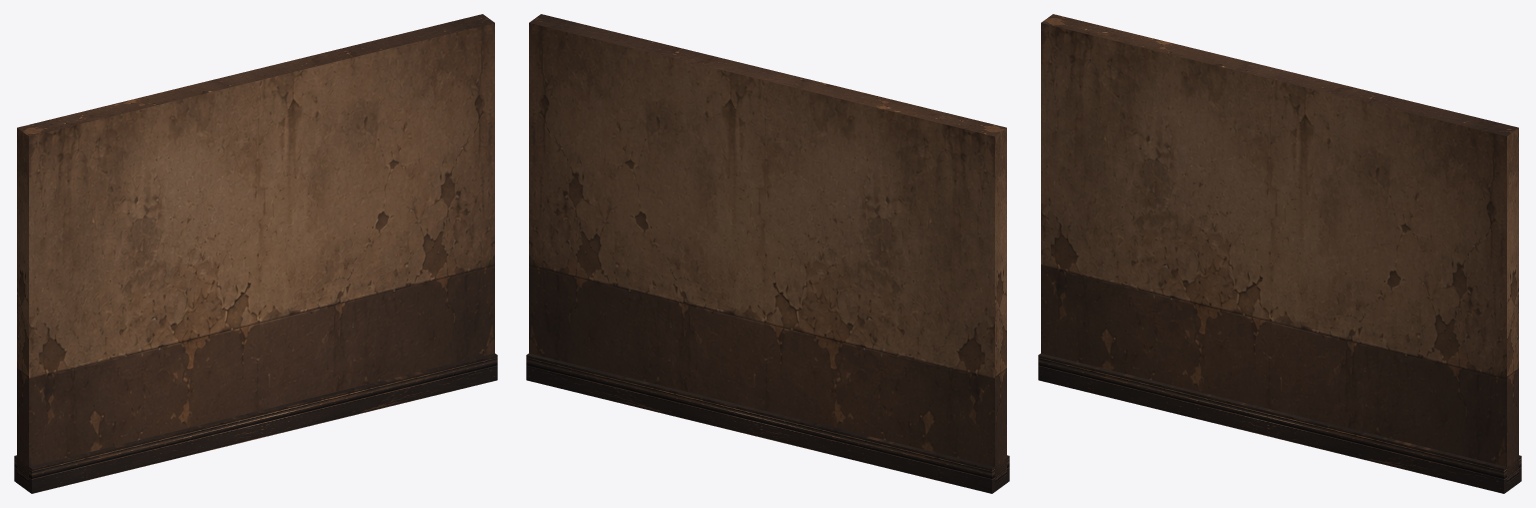
The model's file is Pared.fbx.
3 renders of one model, left to right at view 1: azimuth 30°, elevation 25°; view 2: azimuth 150°, elevation 25°; view 3: azimuth 330°, elevation 25°, orthographic.
Parts seen in each view (by area): view 1: pared1; view 2: pared1; view 3: pared1.
Part boxes in pixels (<box>): pared1: <box>14,14,497,493</box>; pared1: <box>526,14,1009,493</box>; pared1: <box>1038,14,1521,493</box>.
Bounding box in the file's own units: 1191 × 868 × 78.02.
1 material, 1 textured.
